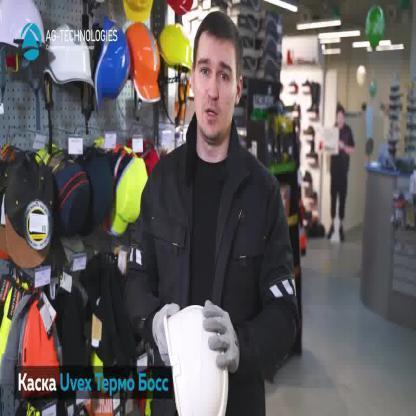gloves: (204, 300, 242, 374), (152, 300, 183, 372)
helmet: (163, 303, 230, 415), (95, 13, 132, 116), (42, 20, 96, 90), (124, 20, 162, 104), (0, 0, 47, 54), (156, 22, 192, 73)
